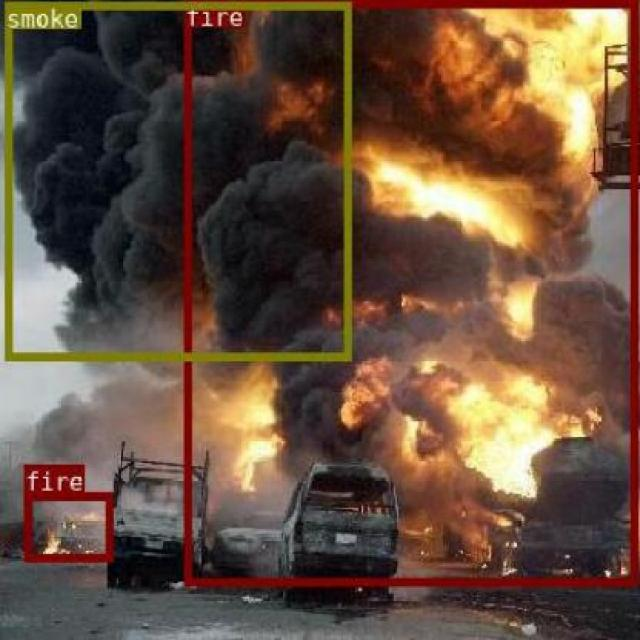fire: (184, 0, 638, 585), (23, 492, 112, 560)
smoke: (4, 0, 350, 358)
